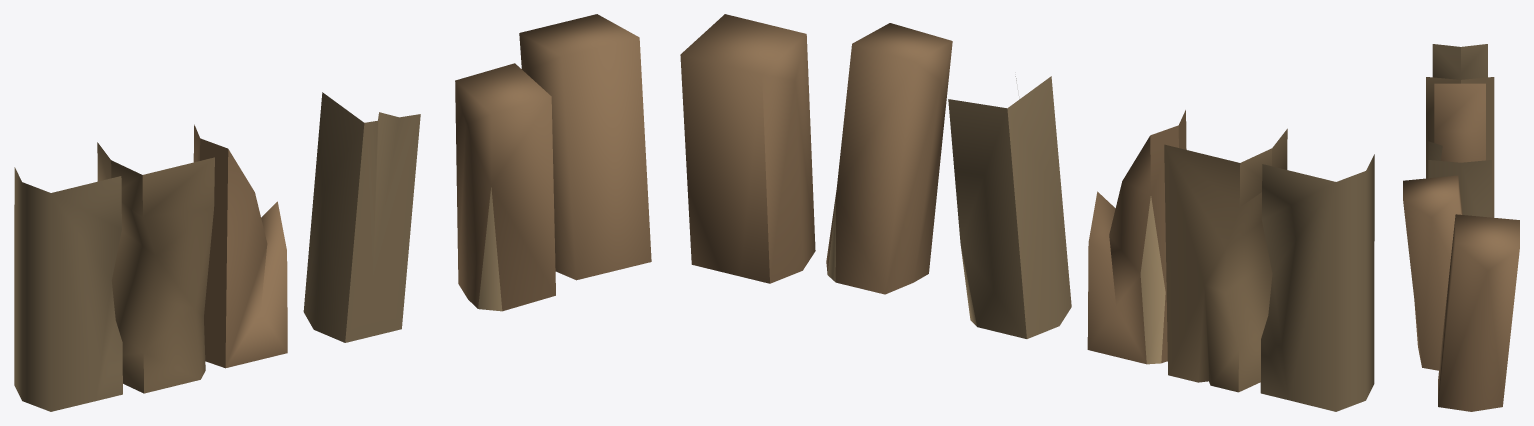
Rendered from rpgpp_av_wall_02_3x1_d.gltf.
3 renders of one model, left to right at view 1: azimuth 30°, elevation 25°; view 2: azimuth 150°, elevation 25°; view 3: azimuth 270°, elevation 25°, orthographic. The views are drawn at different scales.
Parts seen in each view (by area): view 1: rpgpp_av_wall_02_3x1_d; view 2: rpgpp_av_wall_02_3x1_d; view 3: rpgpp_av_wall_02_3x1_d.
Part boxes in pixels (x1,y1,x2,y2): rpgpp_av_wall_02_3x1_d: (14, 14, 651, 411); rpgpp_av_wall_02_3x1_d: (680, 14, 1374, 411); rpgpp_av_wall_02_3x1_d: (1403, 44, 1519, 411).
Bounding box in the file's own units: 0.03 × 0.01 × 0.00638.
1 material, 1 textured.
